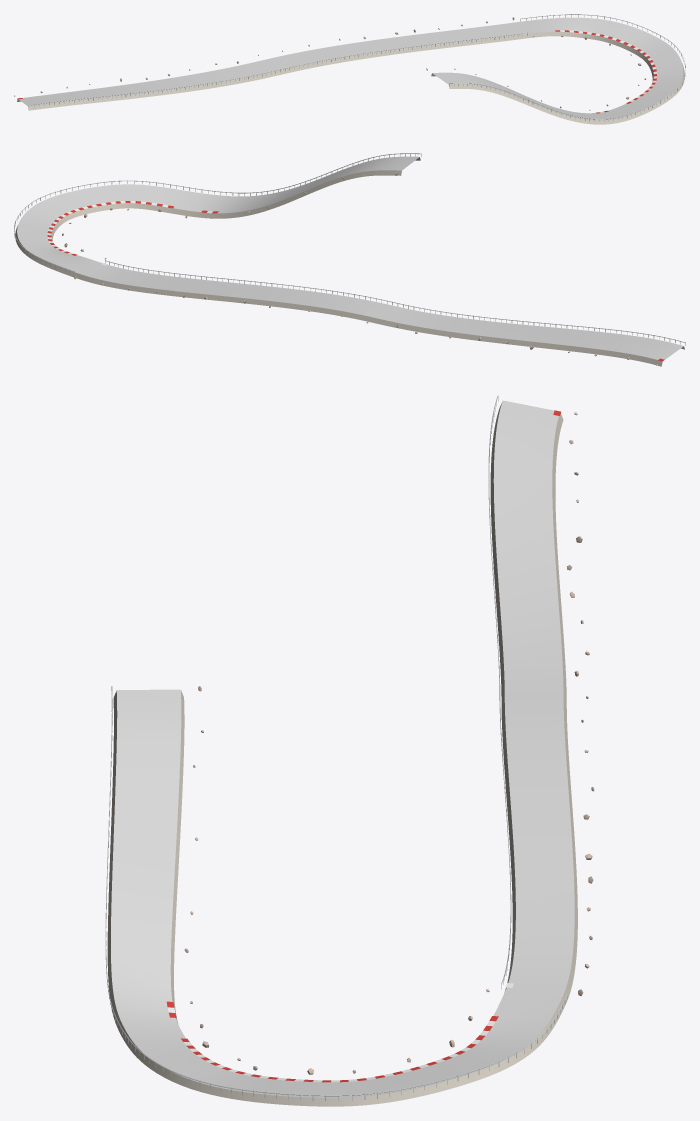
File: SM_AsirMountains_Track_03.fbx
3 renders of one model, top to bottom at view 1: azimuth 30°, elevation 25°; view 2: azimuth 150°, elevation 25°; view 3: azimuth 270°, elevation 25°, orthographic. The views are drawn at different scales.
Visible parts, largest first — view 1: SM_AsirMountains_Track_03; view 2: SM_AsirMountains_Track_03; view 3: SM_AsirMountains_Track_03.
Part boxes in pixels (x1,y1,x2,y2): SM_AsirMountains_Track_03: [14, 14, 685, 124]; SM_AsirMountains_Track_03: [14, 153, 685, 366]; SM_AsirMountains_Track_03: [105, 395, 594, 1106].
Bounding box in the file's own units: 26075 × 3539 × 9146.
